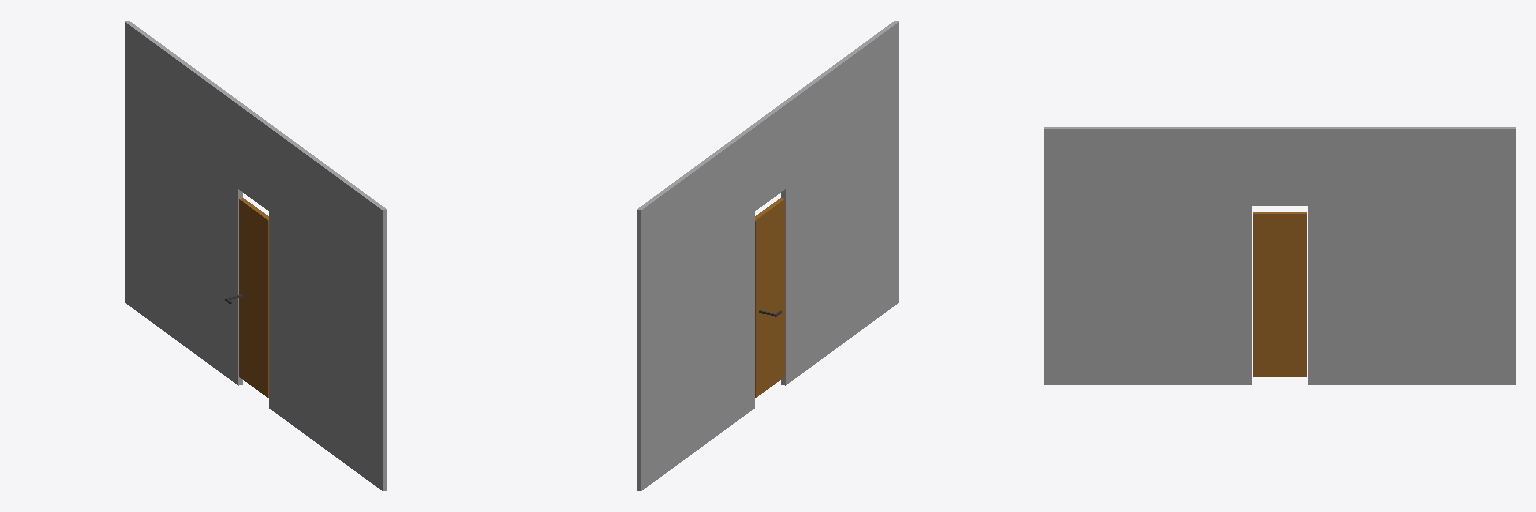
The robot description file, URDF, robot "wall_with_single_door":
<?xml version="1.0"?>
<robot name="wall_with_single_door">
  <!-- ROTATED ROOT: celý model se posadí pod tento link a otočí o 90° kolem Z -->
  <link name="rot_root">
    <inertial>
      <origin xyz="0 0 0" rpy="0 0 0"/>
      <mass value="0.0"/>
      <inertia ixx="0.0001" ixy="0.0" ixz="0.0" iyy="0.0001" iyz="0.0" izz="0.0001"/>
    </inertial>
  </link>

  <!-- pevné připojení wall_base pod rot_root s rotací 90 deg kolem Z -->
  <joint name="rot_root_to_wall_base" type="fixed">
    <parent link="rot_root"/>
    <child  link="wall_base"/>
    <origin xyz="0 0 0" rpy="0 0 1.57079632679"/>
  </joint>

  <!-- BASE -->
  <link name="wall_base">
    <inertial>
      <origin xyz="0 0 0" rpy="0 0 0" />
      <mass value="1.0" />
      <inertia ixx="0.001" ixy="0.0" ixz="0.0" iyy="0.001" iyz="0.0" izz="0.001" />
    </inertial>
  </link>

  <!-- LEFT PANEL (now longer to meet narrower door) -->
  <link name="wall_left">
    <visual>
      <!-- door is now centered at x=0 with width 0.6, so left panel extends from -2.5 to -0.3 -->
      <origin xyz="-1.4 0 1.5" />
      <geometry>
        <box size="2.2 0.05 3.0" />
      </geometry>
      <material name="grey"><color rgba="0.7 0.7 0.7 1.0"/></material>
    </visual>
    <collision>
      <origin xyz="-1.4 0 1.5" />
      <geometry>
        <box size="2.2 0.05 3.0" />
      </geometry>
    </collision>
  </link>

  <joint name="wall_left_fixed" type="fixed">
    <parent link="wall_base"/>
    <child  link="wall_left"/>
  </joint>

  <!-- RIGHT PANEL -->
  <link name="wall_right">
    <visual>
      <!-- door extends to +0.3, wall continues to +2.5, so length 2.2 -->
      <origin xyz="1.4 0 1.5" />
      <geometry>
        <box size="2.2 0.05 3.0" />
      </geometry>
      <material name="grey"><color rgba="0.7 0.7 0.7 1.0"/></material>
    </visual>
    <collision>
      <origin xyz="1.4 0 1.5" />
      <geometry>
        <box size="2.2 0.05 3.0" />
      </geometry>
    </collision>
  </link>

  <joint name="wall_right_fixed" type="fixed">
    <parent link="wall_base"/>
    <child  link="wall_right"/>
  </joint>

  <!-- LINTEL -->
  <link name="wall_lintel">
    <visual>
      <origin xyz="0 0 2.55" />
      <geometry>
        <box size="5.0 0.05 0.9" />
      </geometry>
      <material name="grey"><color rgba="0.7 0.7 0.7 1.0"/></material>
    </visual>
    <collision>
      <origin xyz="0 0 2.55" />
      <geometry>
        <box size="5.0 0.05 0.9" />
      </geometry>
    </collision>
  </link>

  <joint name="wall_lintel_fixed" type="fixed">
    <parent link="wall_base"/>
    <child  link="wall_lintel"/>
  </joint>

  <!-- DOOR (width reduced from 1.0 to 0.6) -->
  <link name="door">
    <visual>
      <!-- visual now relative to door frame (z=0) because frame moved up in joint -->
      <origin xyz="0.3 0 1.05" />
      <geometry>
        <box size="0.57 0.05 1.9" />
      </geometry>
      <material name="wood"><color rgba="0.65 0.45 0.2 1.0"/></material>
    </visual>
    <collision>
      <origin xyz="0.3 0 1.05" />
      <geometry>
        <box size="0.57 0.05 1.9" />
      </geometry>
    </collision>
    <inertial>
      <origin xyz="0.3 0 1.05" />
      <mass value="1.0" />
      <inertia ixx="0.1" ixy="0.0" ixz="0.0" iyy="0.1" iyz="0.0" izz="0.1" />
    </inertial>
  </link>

  <joint name="door_hinge" type="revolute">
    <parent link="wall_base" />
    <child  link="door" />
    <!-- raise the door frame by 1.05 m so visuals and collision align in world -->
    <origin xyz="-0.3 0 0.0" />
    <axis xyz="0 0 1" />
    <limit effort="1.0" velocity="5.0" lower="-1.5708" upper="1.5708" />
    <dynamics damping="0.5" friction="0.0" />
  </joint>

  <!-- DOOR HANDLE -->
  <link name="door_handle">
    <visual>
      <origin xyz="0 0 0.0" rpy="0 0 0"/>
      <geometry><box size="0.02 0.1 0.02"/></geometry>
      <material name="metal"><color rgba="0.3 0.3 0.3 1.0"/></material>
    </visual>
    <collision>
      <origin xyz="0 0 0.0" rpy="0 0 0"/>
      <geometry><box size="0.02 0.1 0.02"/></geometry>
    </collision>
    <inertial>
      <origin xyz="0 0 0.0" rpy="0 0 0"/>
      <mass value="0.12"/>
      <inertia ixx="0.0005" ixy="0.0" ixz="0.0" iyy="0.0005" iyz="0.0" izz="0.0005"/>
    </inertial>
  </link>

  <link name="door_handle_stem">
    <visual>
      <origin xyz="0 0 0.0" rpy="0 0 0"/>
      <geometry><box size="0.2 0.020 0.02"/></geometry>
      <material name="metal"/>
    </visual>
    <collision>
      <origin xyz="0 0 0.0" rpy="0 0 0"/>
      <geometry><box size="0.2 0.020 0.02"/></geometry>
    </collision>
    <inertial>
      <origin xyz="0 0 0.0" rpy="0 0 0"/>
      <mass value="0.08"/>
      <inertia ixx="0.0002" ixy="0.0" ixz="0.0" iyy="0.0002" iyz="0.0" izz="0.0002"/>
    </inertial>
  </link>

  <!-- attach handle frame at local position relative to 'door' -->
  <joint name="door_handle_fixed" type="fixed">
    <parent link="door"/>
    <child  link="door_handle"/>
    <origin xyz="0.46 0.21 1.0" rpy="0 0 -1.57079632679"/>
  </joint>

  <!-- stem fixed relative to handle base -->
  <joint name="door_handle_parts_fixed" type="fixed">
    <parent link="door_handle"/>
    <child  link="door_handle_stem"/>
    <origin xyz="0.09 0.05 0.0" rpy="0 0 0"/>
  </joint>
</robot>

--- Facts derived from the render (not from the file) ---
The picture shows the robot from 3 angles, left to right: view 1: azimuth 30°, elevation 25°; view 2: azimuth 150°, elevation 25°; view 3: azimuth 270°, elevation 25°; orthographic projection.
Robot: wall_with_single_door — 8 links, 7 joints (1 revolute, 6 fixed); root link rot_root; default pose: all joints at 0.
Visible links, largest first — view 1: wall_left, wall_right, wall_lintel, door; view 2: wall_left, wall_right, wall_lintel, door; view 3: wall_right, wall_left, wall_lintel, door.
Boxes of the visible links, left/top/right/bottom form: wall_left: left=269, top=126, right=386, bottom=490; wall_right: left=125, top=21, right=242, bottom=385; wall_lintel: left=125, top=23, right=386, bottom=292; door: left=239, top=198, right=268, bottom=397; wall_left: left=781, top=21, right=898, bottom=385; wall_right: left=637, top=126, right=754, bottom=490; wall_lintel: left=637, top=21, right=898, bottom=294; door: left=755, top=198, right=784, bottom=397; wall_right: left=1308, top=127, right=1515, bottom=384; wall_left: left=1044, top=127, right=1251, bottom=384; wall_lintel: left=1044, top=127, right=1515, bottom=205; door: left=1253, top=212, right=1306, bottom=376.
Size in the robot's own frame: 0.245 by 5 by 3 metres.
Geometry: primitives only (box / cylinder / sphere), no mesh files.
